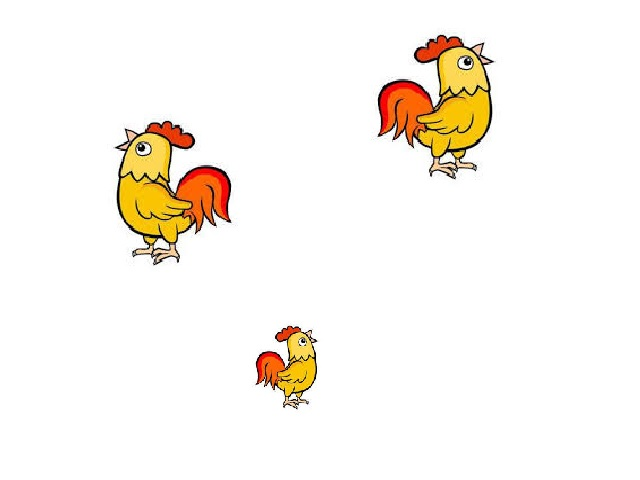crown: (413, 34, 464, 65), (145, 121, 198, 149), (274, 326, 301, 343)
eyes: (133, 139, 154, 156), (456, 54, 475, 71), (300, 337, 307, 347)
feet: (133, 243, 185, 266), (428, 156, 479, 178), (281, 399, 314, 412)
tail: (373, 77, 433, 148), (176, 165, 236, 235), (254, 351, 286, 388)
